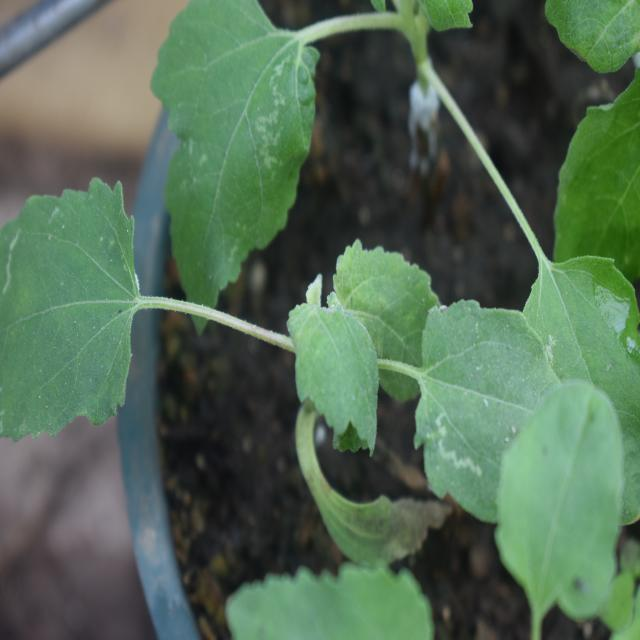cocklebur: (0, 153, 582, 529)
